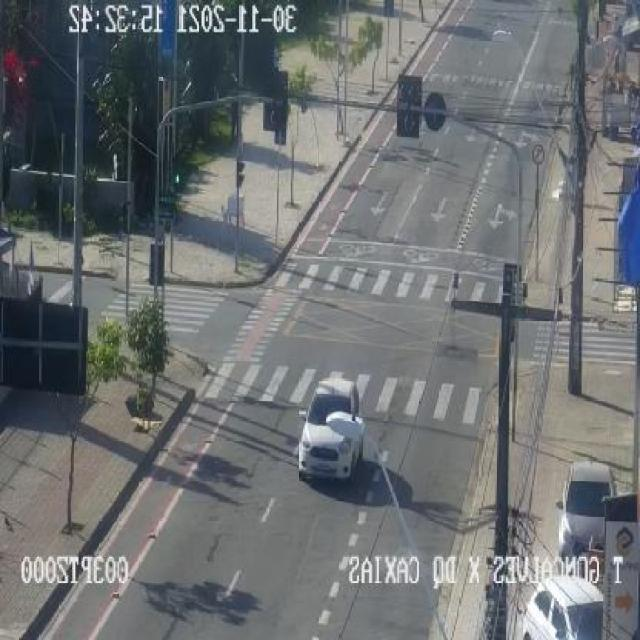car: (298, 378, 366, 480), (559, 462, 615, 556), (522, 576, 602, 640)
traffic-lights: (234, 102, 245, 273)
